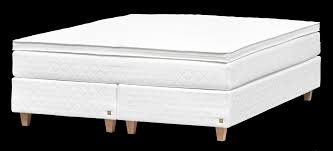bed-matress: (11, 14, 320, 91)
